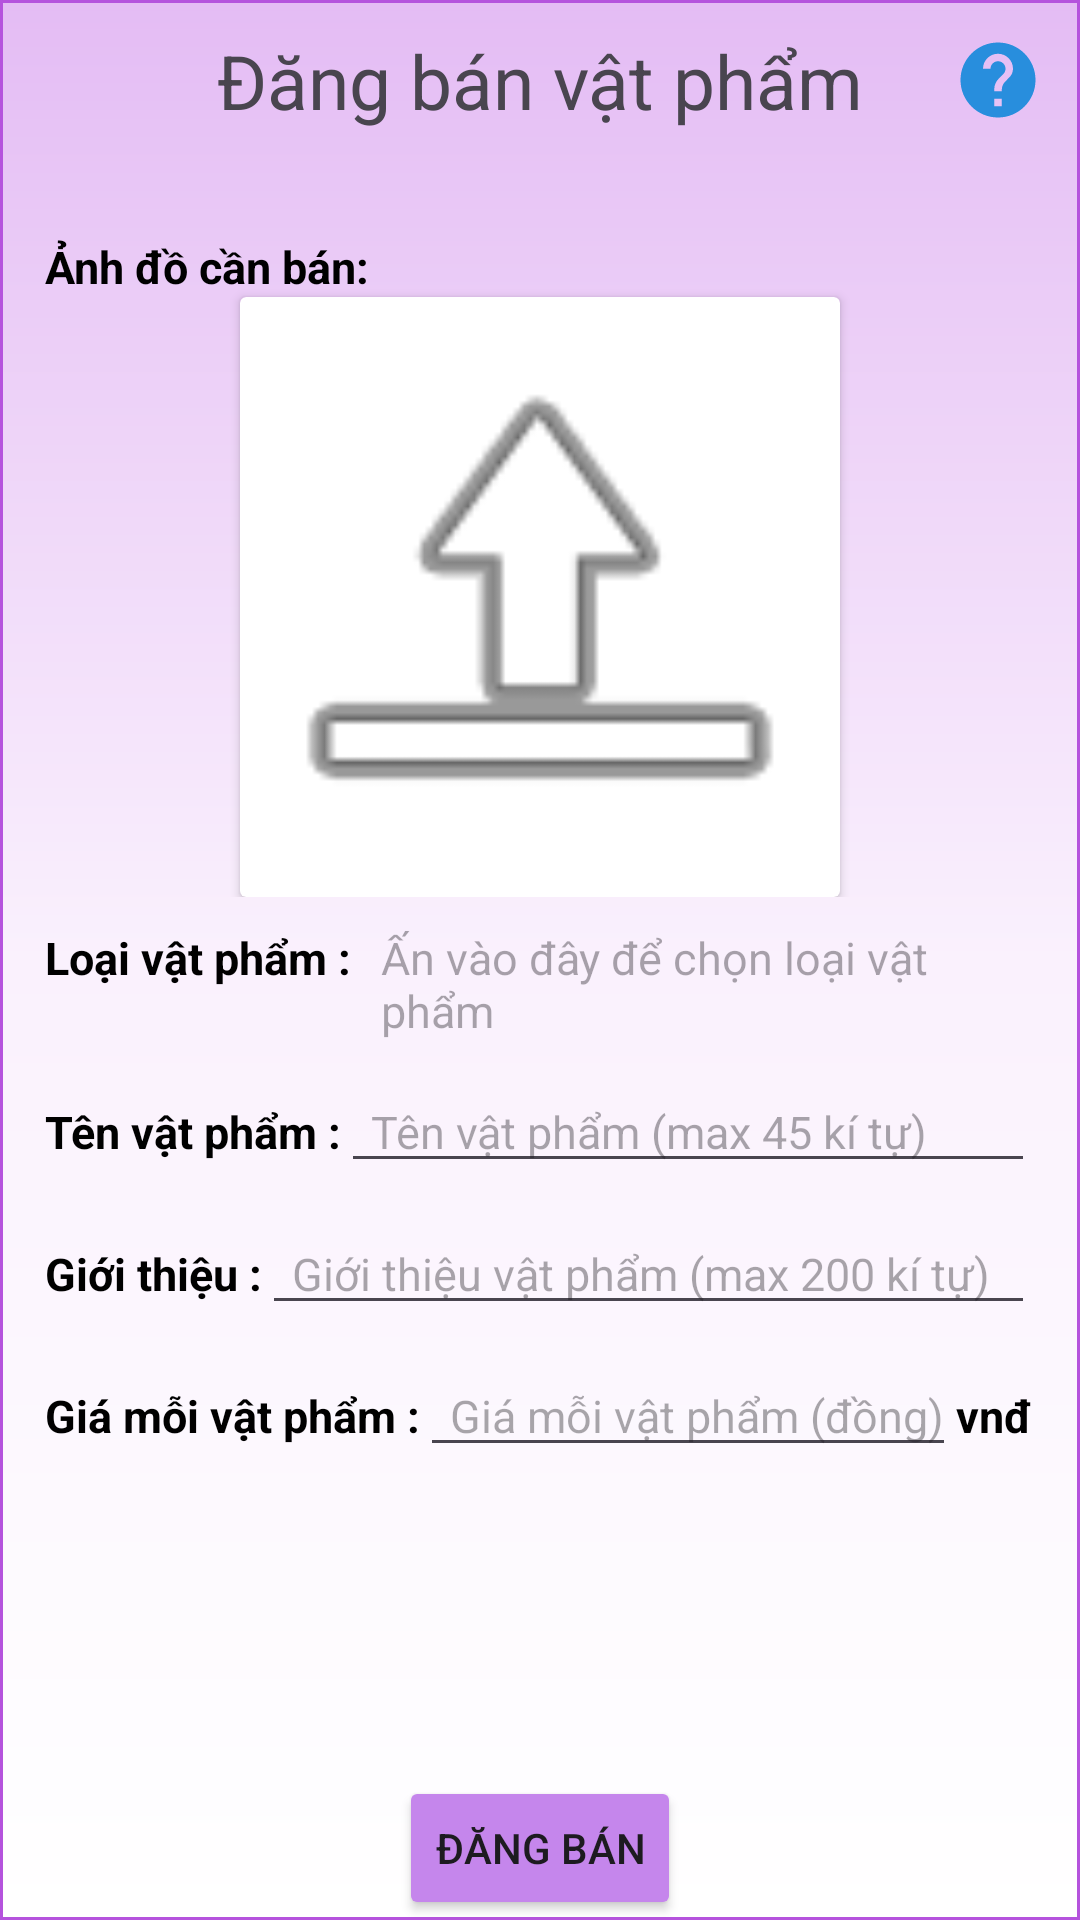

Screen size 1080×1920. Icon name, then its center in pixels as point (x, y):
help: point (998, 80)
